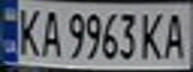3: (118, 9, 142, 61)
6: (100, 9, 121, 61)
9: (81, 9, 103, 61), (63, 8, 84, 60)
A: (160, 8, 193, 60), (36, 6, 63, 57)
K: (12, 3, 45, 57), (136, 8, 169, 61)
